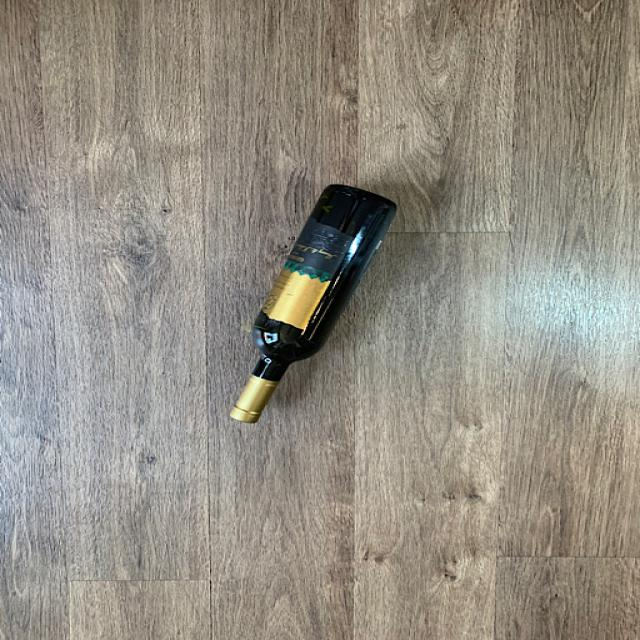litter: (224, 185, 405, 429)
